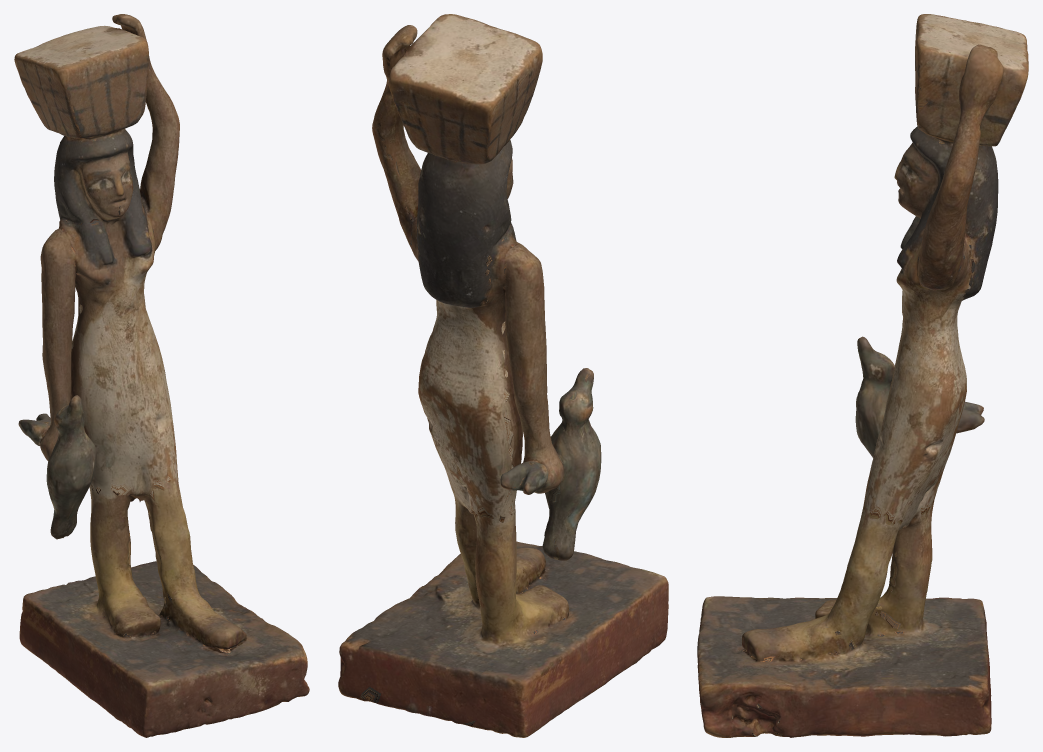
Rendered from portadora-oferendas.glb.
3 views of the same model, side by side, from view 1: azimuth 30°, elevation 25°; view 2: azimuth 150°, elevation 25°; view 3: azimuth 270°, elevation 25° (orthographic). The views are drawn at different scales.
Parts seen in each view (by area): view 1: Object_2; view 2: Object_2; view 3: Object_2.
Part boxes in pixels (x1=…): Object_2: x1=14, y1=14, x2=309, y2=737; Object_2: x1=338, y1=14, x2=668, y2=737; Object_2: x1=697, y1=14, x2=1028, y2=737.
Bounding box in the file's own units: 0.0821 × 0.2609 × 0.1181.
Materials: 1 (1 with a texture image).
